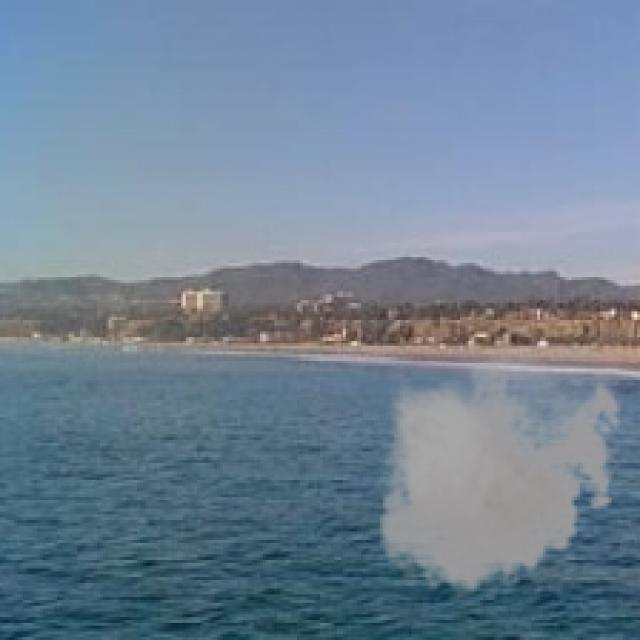smoke: (368, 340, 628, 606)
